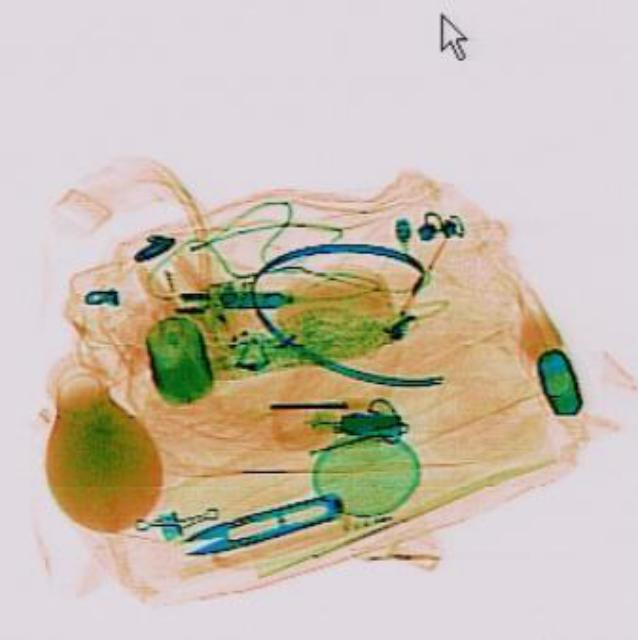Scissors: (174, 481, 344, 564)
